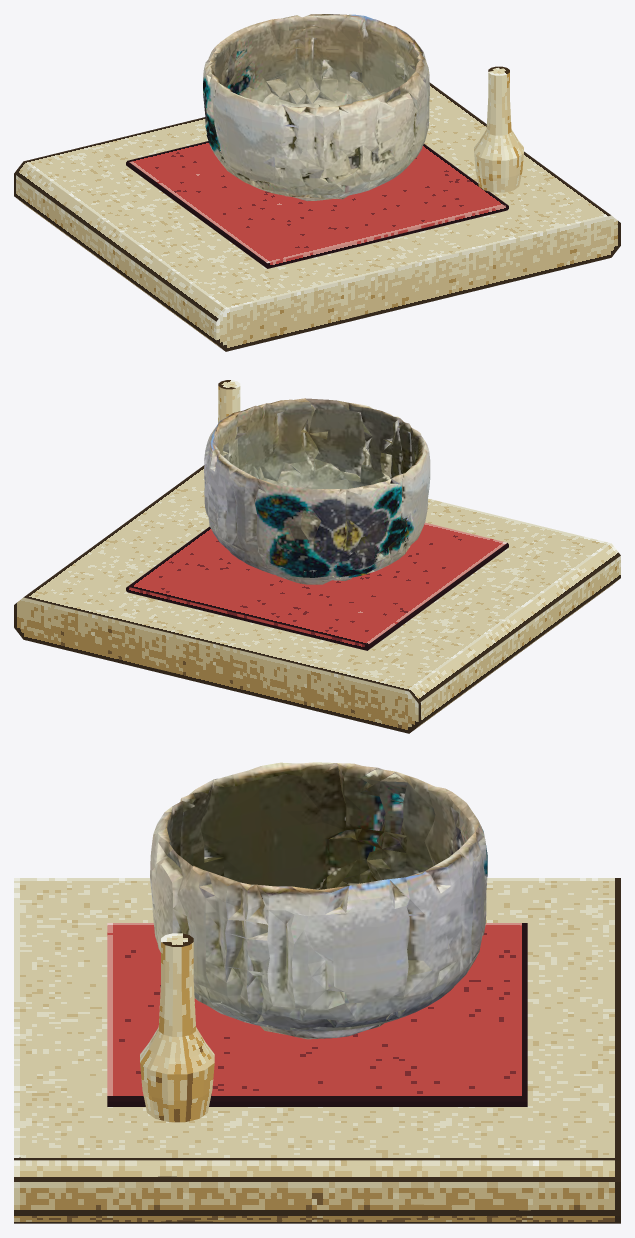
File: matcha.glb
3 renders of one model, top to bottom at view 1: azimuth 30°, elevation 25°; view 2: azimuth 150°, elevation 25°; view 3: azimuth 270°, elevation 25°, orthographic. The views are drawn at different scales.
Visible parts, largest first — view 1: base, model_bowl, cloth, whisk; view 2: base, model_bowl, cloth, whisk; view 3: base, model_bowl, cloth, whisk.
Part boxes in pixels (bbox=[...]): base: bbox=[14, 82, 620, 351]; model_bowl: bbox=[203, 14, 429, 201]; cloth: bbox=[126, 141, 508, 268]; whisk: bbox=[474, 66, 523, 192]; base: bbox=[14, 465, 620, 733]; model_bowl: bbox=[204, 398, 430, 584]; cloth: bbox=[126, 522, 508, 650]; whisk: bbox=[218, 380, 240, 422]; base: bbox=[14, 878, 620, 1223]; model_bowl: bbox=[150, 762, 487, 1039]; cloth: bbox=[107, 923, 527, 1106]; whisk: bbox=[140, 933, 214, 1122].
Bounding box in the file's own units: 30 × 12.4 × 26.
Materials: 2 (2 with a texture image).
